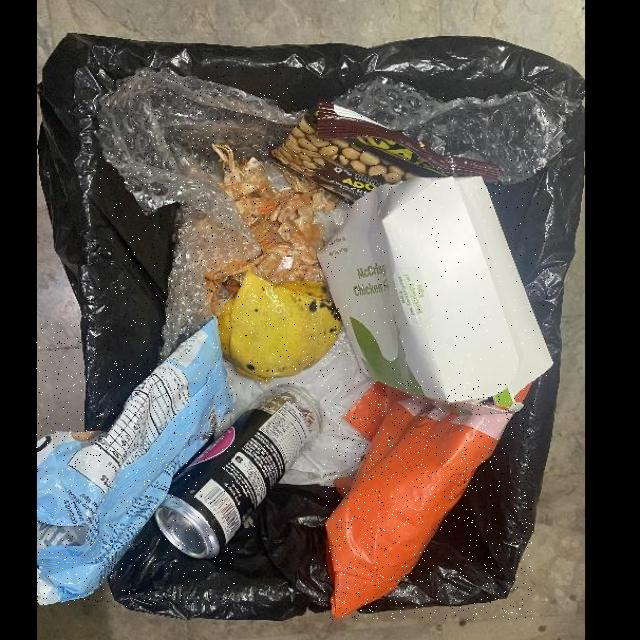biowaste: (204, 145, 337, 318), (211, 272, 341, 385)
metal: (153, 384, 320, 560)
paper: (317, 177, 553, 418)
plastic: (97, 68, 308, 362), (324, 382, 533, 620), (335, 76, 570, 185)
wrapper: (36, 318, 235, 607), (271, 100, 500, 205)
